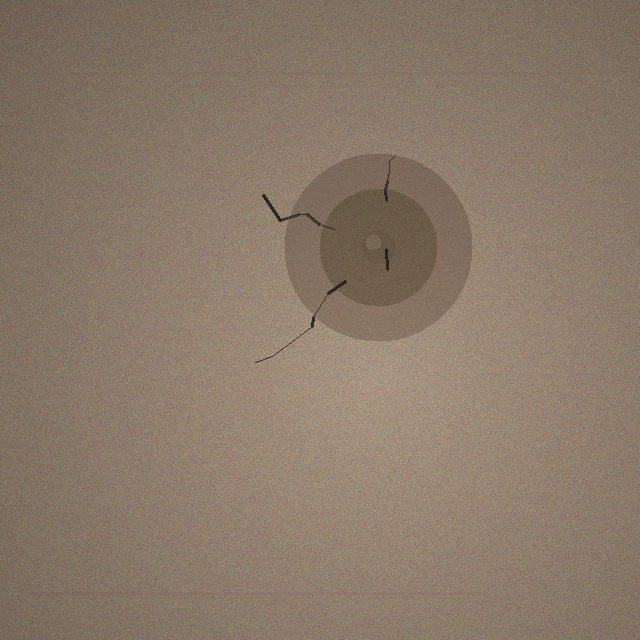crack: (284, 153, 472, 341)
